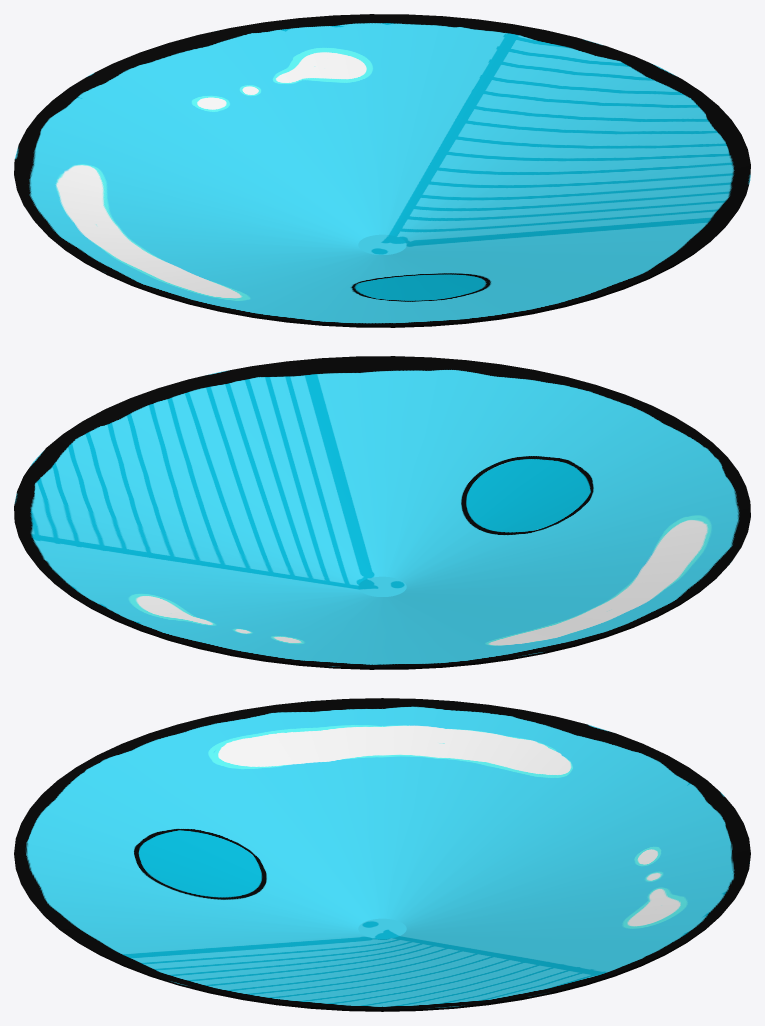
The model's file is drumsetV4_Hi-Hat001.obj.
The picture shows the model from 3 angles, top to bottom: view 1: azimuth 30°, elevation 25°; view 2: azimuth 150°, elevation 25°; view 3: azimuth 270°, elevation 25°; orthographic projection.
Visible parts, largest first — view 1: drumsetV4_Hi-Hat.001_Cylinder.034; view 2: drumsetV4_Hi-Hat.001_Cylinder.034; view 3: drumsetV4_Hi-Hat.001_Cylinder.034.
Part boxes in pixels (x1,y1,x2,y2): drumsetV4_Hi-Hat.001_Cylinder.034: (14, 14, 750, 327); drumsetV4_Hi-Hat.001_Cylinder.034: (14, 356, 750, 669); drumsetV4_Hi-Hat.001_Cylinder.034: (14, 698, 750, 1011).
Size of the model in its own units: 0.8717 by 0.1022 by 0.8717.
